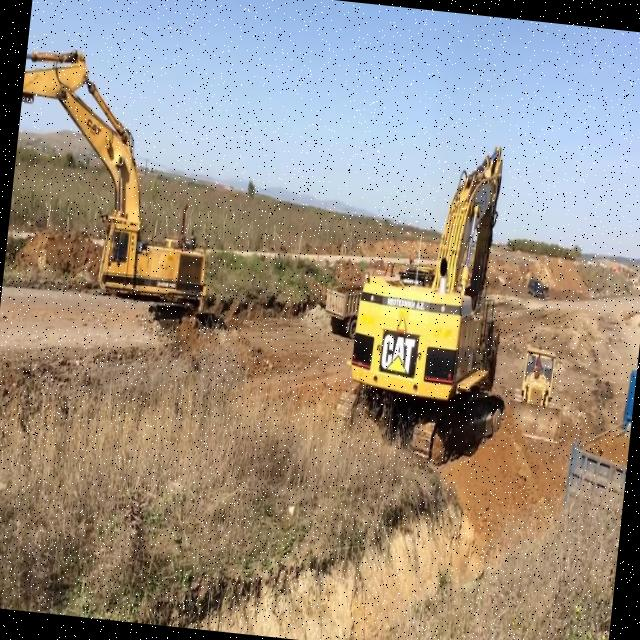Dump Truck: (565, 360, 637, 506), (320, 280, 360, 340)
Excavator: (330, 126, 532, 472), (2, 40, 230, 307)
Loader: (504, 345, 568, 444)
